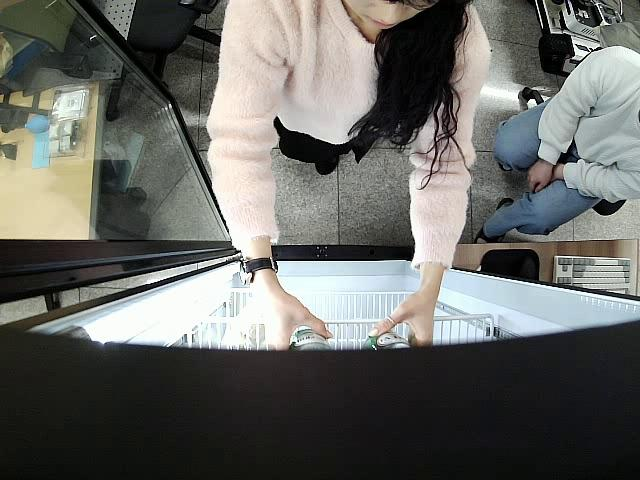00_hand: (260, 287, 338, 351), (366, 295, 436, 351)
18_trevi: (287, 329, 336, 358), (365, 330, 414, 352)
